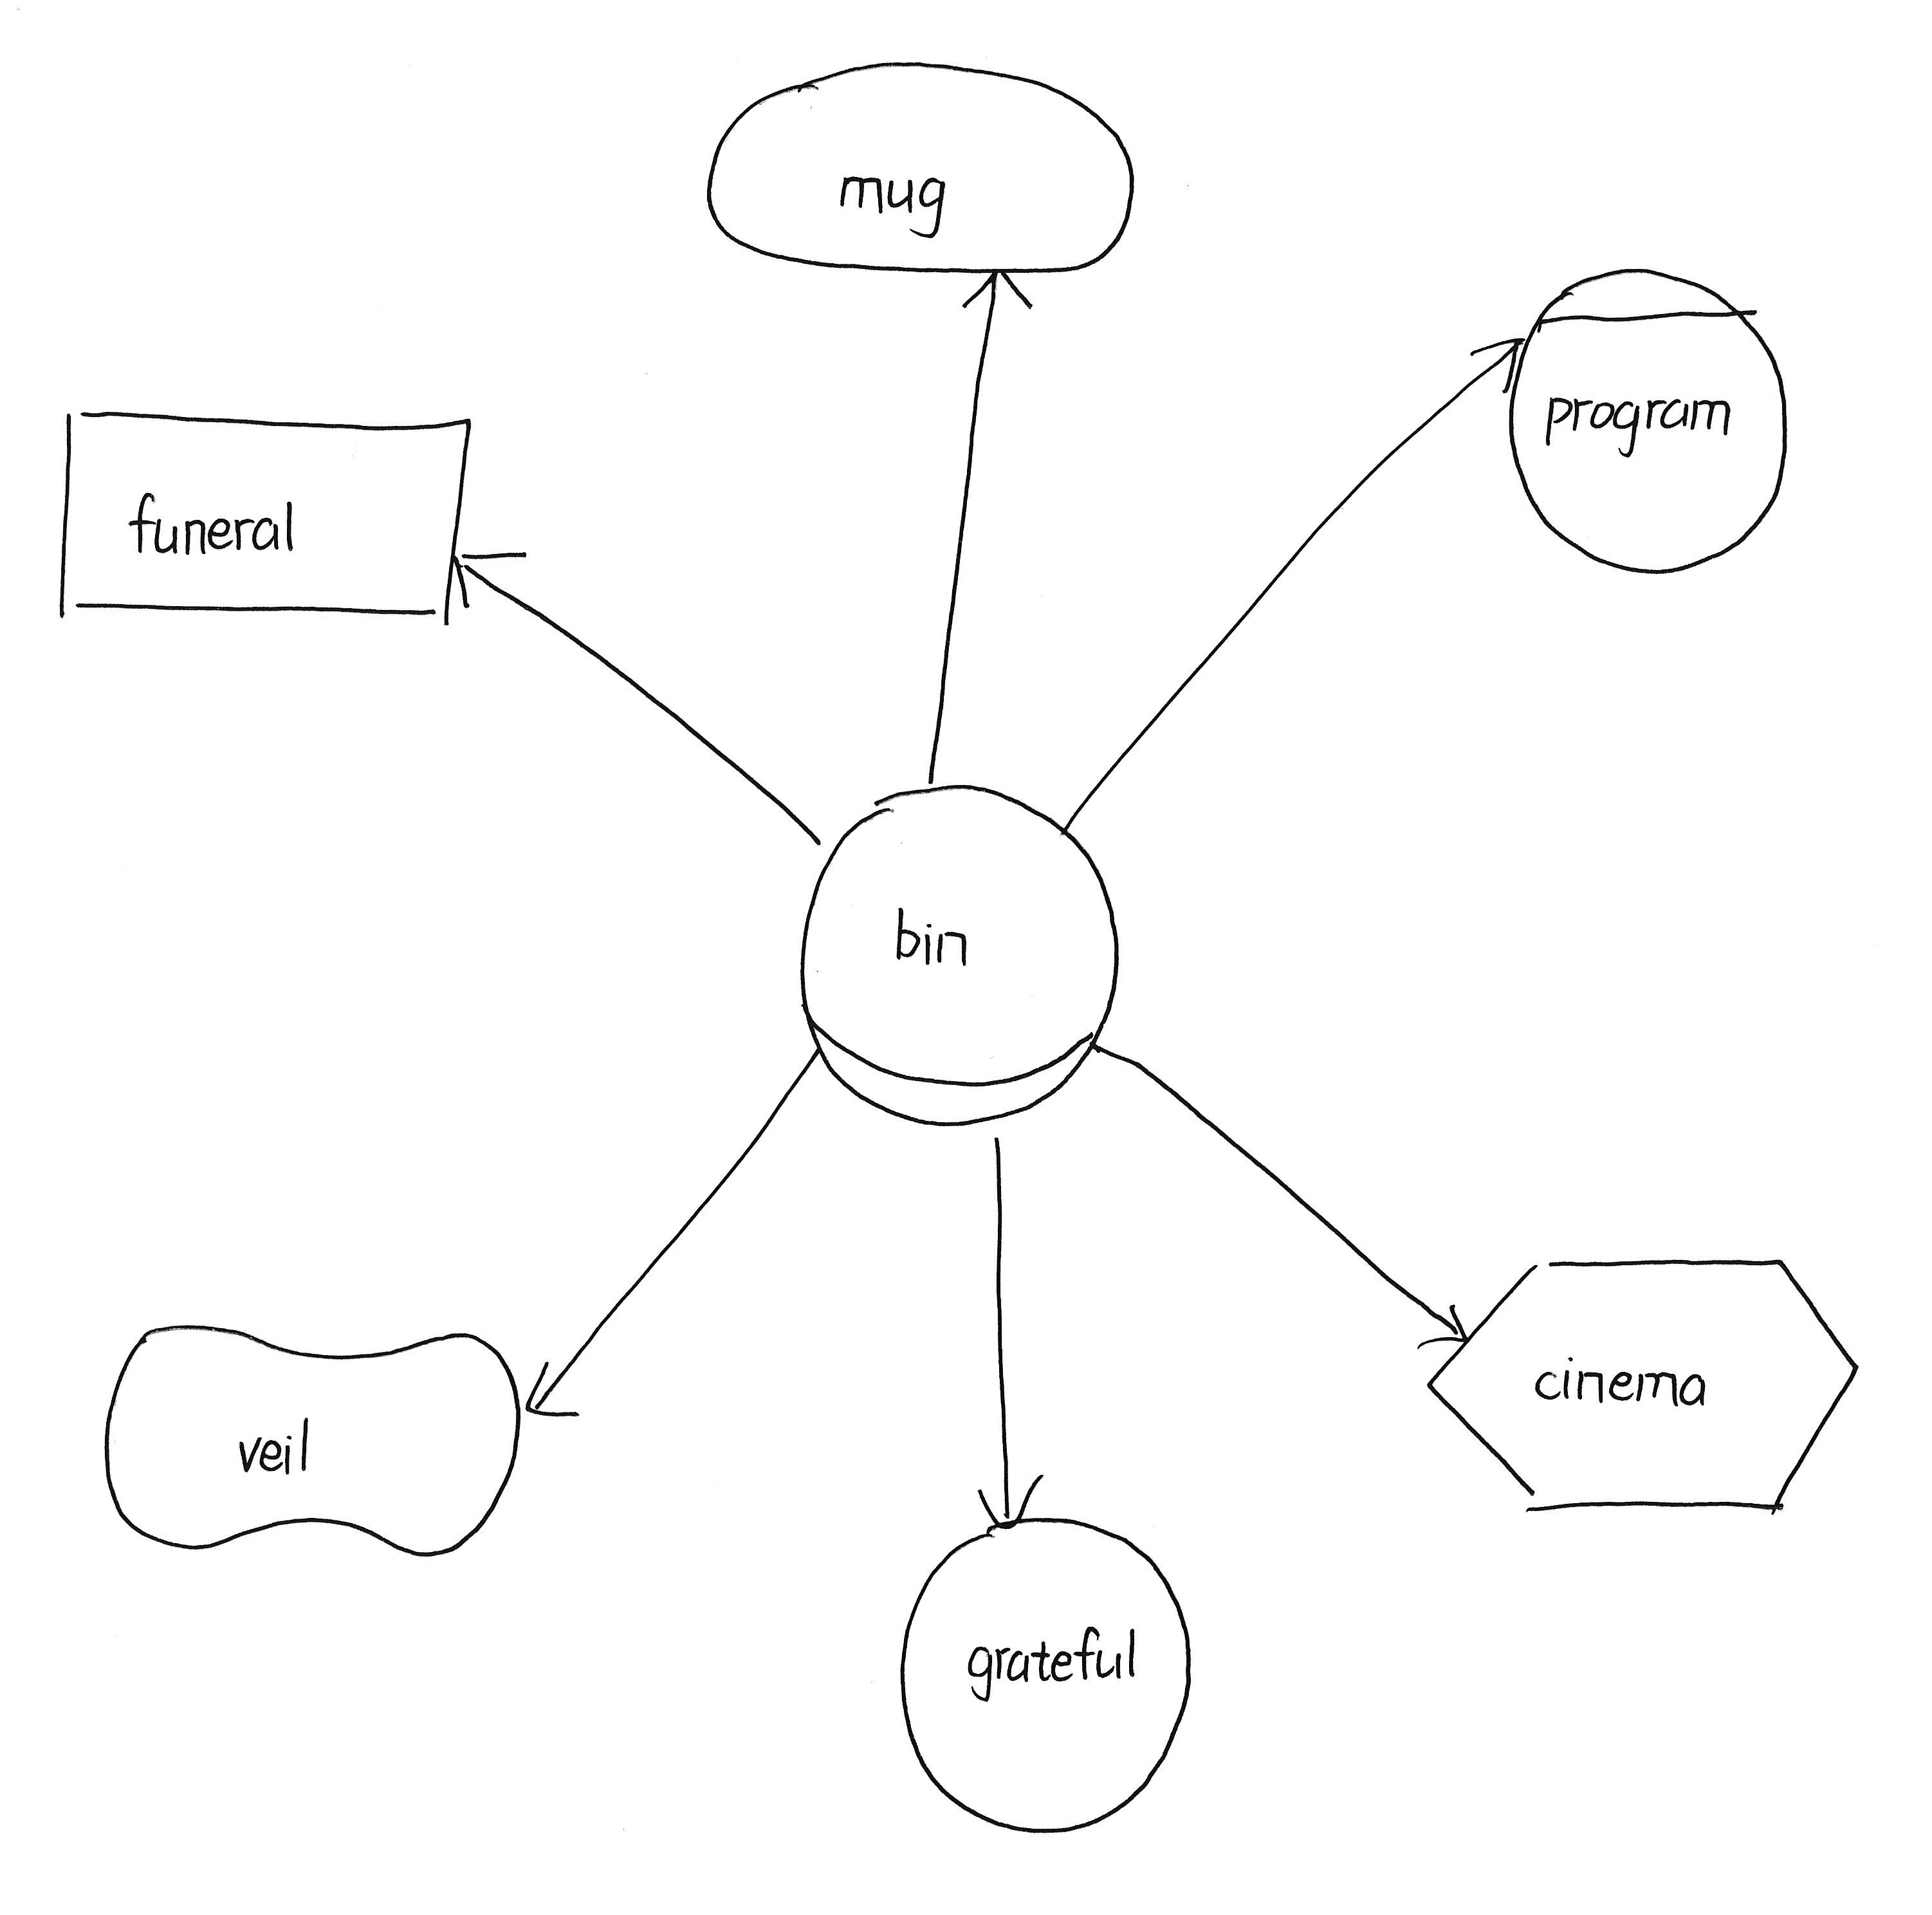actor: (882, 1501, 1204, 1852)
agent: (1497, 251, 1809, 593)
arrow: (442, 538, 538, 624), (966, 1470, 1064, 1545), (1459, 317, 1529, 403), (517, 1357, 587, 1443), (952, 263, 1040, 328), (1408, 1285, 1483, 1361)
goal: (687, 44, 1155, 291)
quality: (86, 1305, 535, 1582)
resource: (37, 384, 484, 645)
role: (780, 768, 1134, 1138)
task: (1417, 1243, 1872, 1531)
